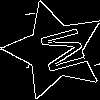M: (30, 25, 87, 78)
